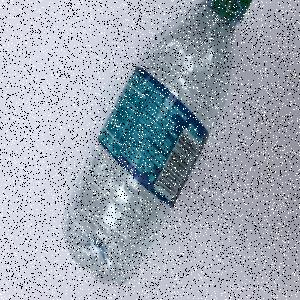Plastic-bottle: (62, 2, 262, 287)
